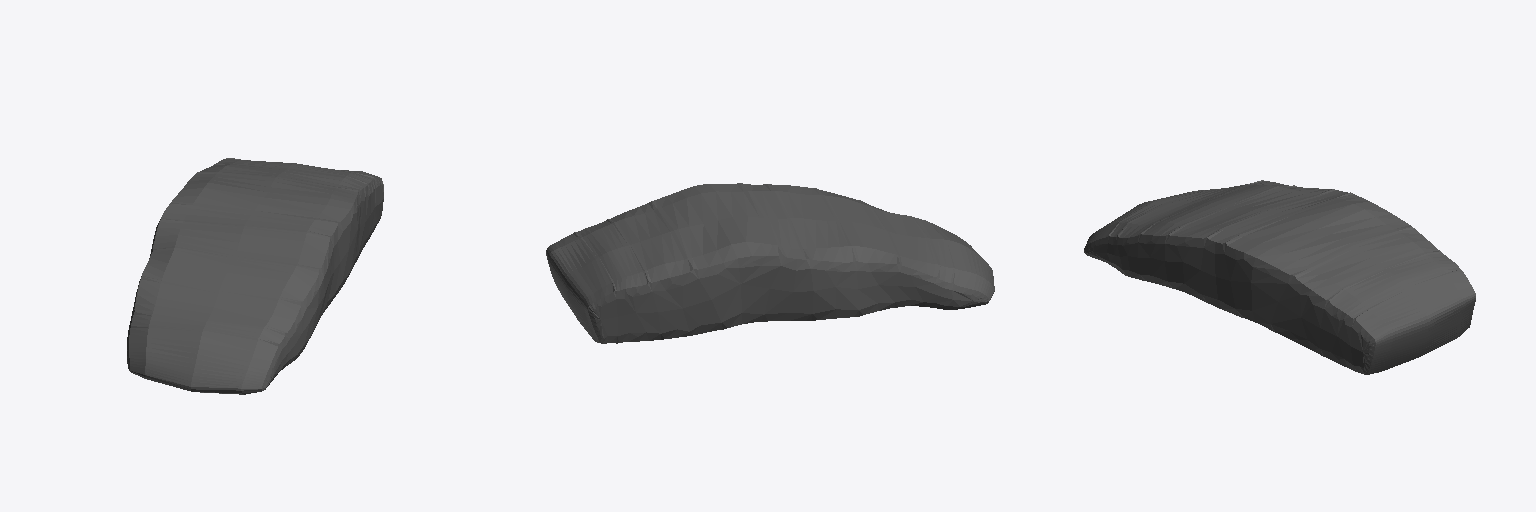
File: pescado.obj
3 views of the same model, side by side, from view 1: azimuth 30°, elevation 25°; view 2: azimuth 150°, elevation 25°; view 3: azimuth 270°, elevation 25° (orthographic).
Visible parts, largest first — view 1: Line10; view 2: Line10; view 3: Line10.
Boxes of the visible parts, box(x1,y1,x2,y2) form: Line10: box(127, 158, 383, 394); Line10: box(546, 183, 994, 343); Line10: box(1084, 180, 1475, 374).
Size of the model in its own units: 5.25 by 1.29 by 5.13.